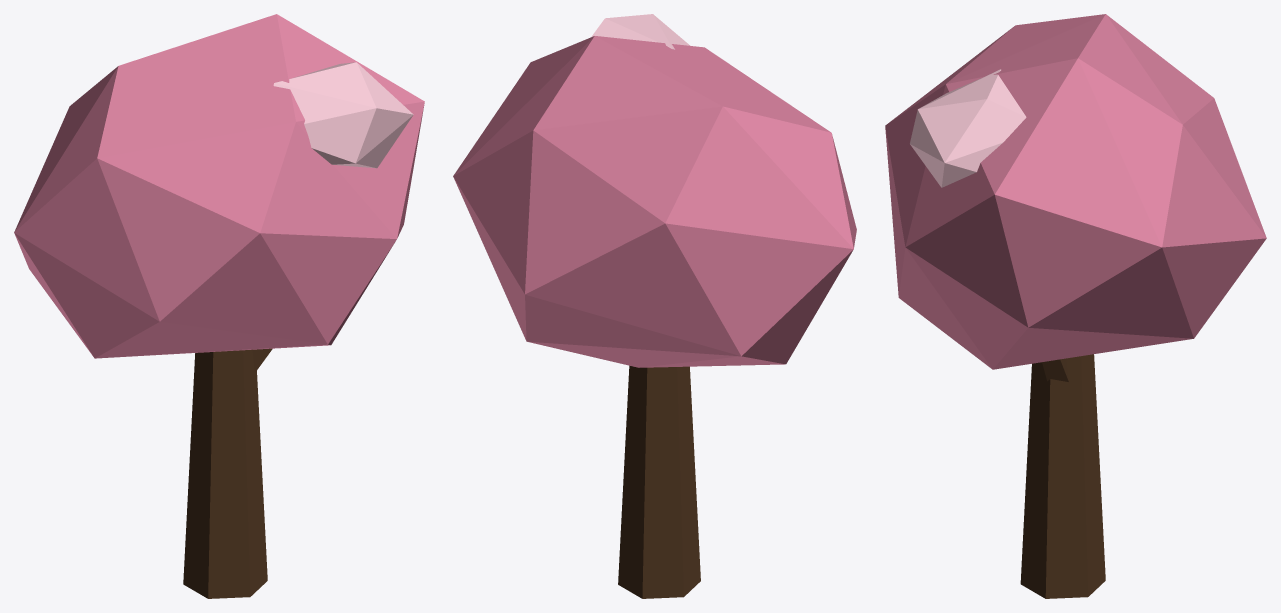
Rendered from deco_tree_a.glb.
3 views of the same model, side by side, from view 1: azimuth 30°, elevation 25°; view 2: azimuth 150°, elevation 25°; view 3: azimuth 270°, elevation 25° (orthographic). The views are drawn at different scales.
Parts seen in each view (by area): view 1: deco_tree_a_mesh; view 2: deco_tree_a_mesh; view 3: deco_tree_a_mesh.
Boxes of the visible parts, box(x1,y1,x2,y2) form: deco_tree_a_mesh: box(14, 14, 424, 598); deco_tree_a_mesh: box(453, 14, 856, 598); deco_tree_a_mesh: box(885, 14, 1266, 598).
Size of the model in its own units: 0.2092 by 0.2964 by 0.1854.
